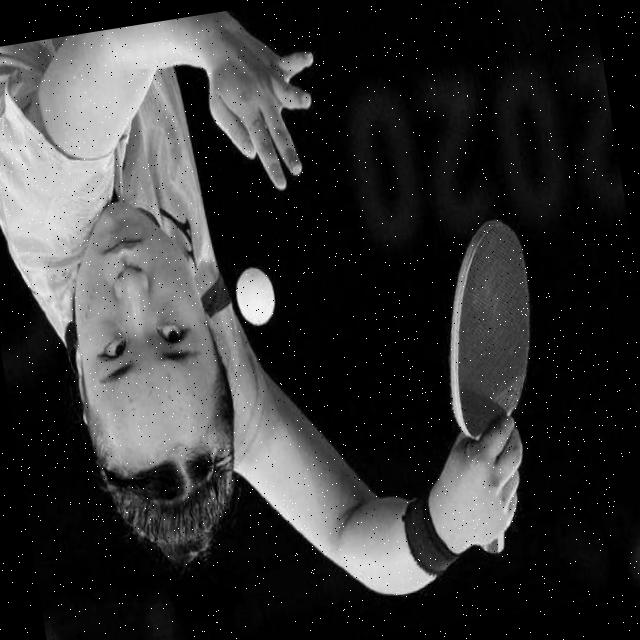ping-pong-ball: (232, 268, 282, 330)
